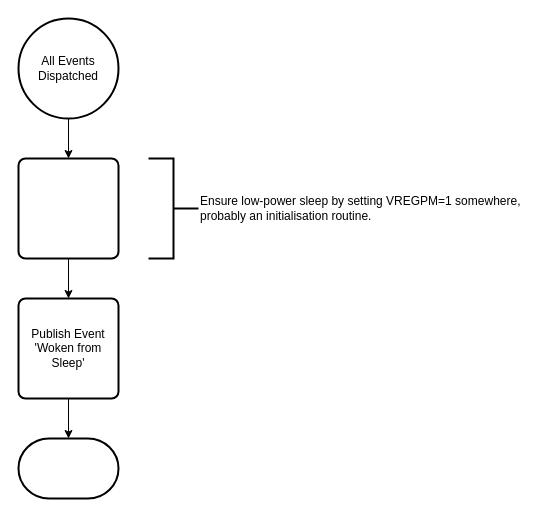
The diagram is 537 pixels wide and 516 high, and some of its shapes have lost their labels. The shapes that lost their labels are listed below. From the top down, each one's centre as x and y in pixels, then its label:
point (68, 208): Sleep
point (68, 468): Done
